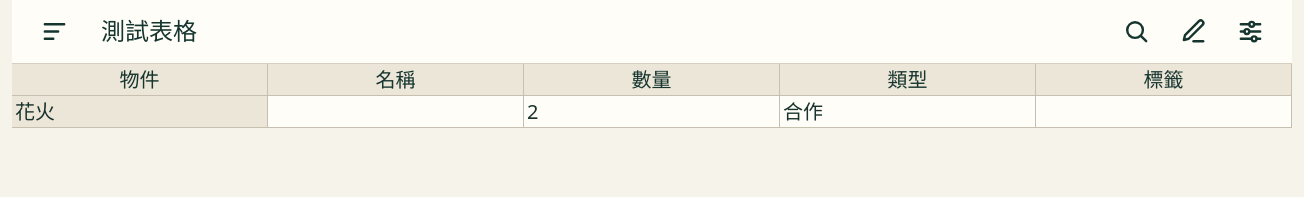
WorkspacePage.filters › searches every value in the active table without changing the app-bar actions
Click the button named "搜尋".
click(1136, 32)  # box x1=1112 y1=8 x2=1160 y2=56
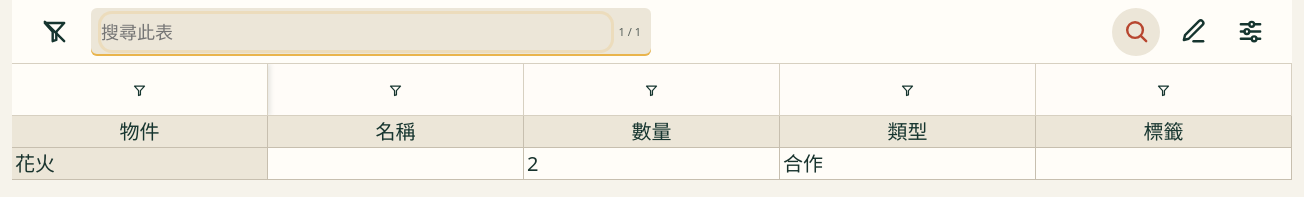
Type "合作" into the search field labelled "搜尋此表".
click(356, 32); type("合作")  # box x1=101 y1=14 x2=611 y2=50
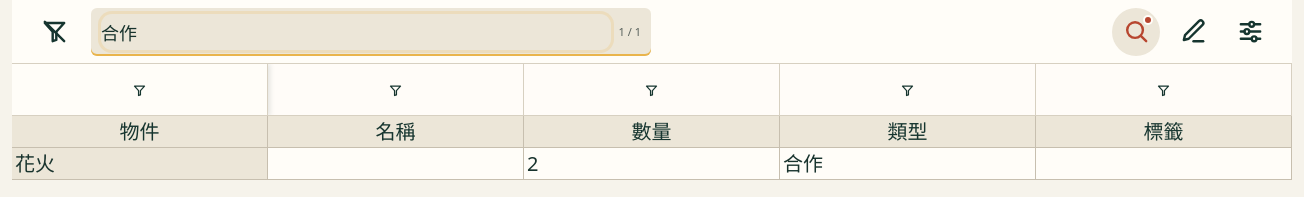
Expected: the row "花火 2 合作" is shown, x1=12 y1=96 x2=1292 y2=128
Replace the text in the search field named "搜尋此表" with "不存在" at (356, 32), box x1=101 y1=14 x2=611 y2=50
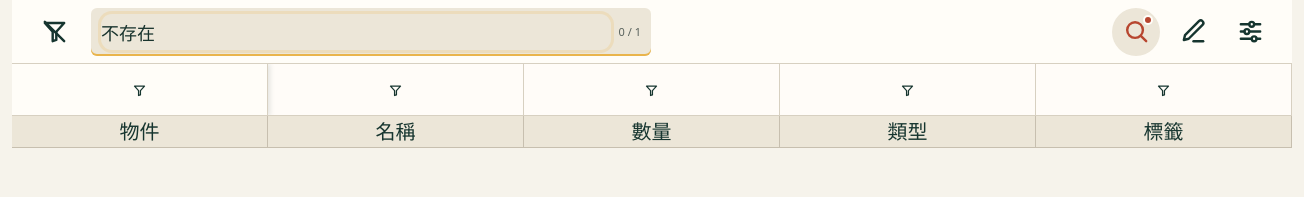
Expected: the button "花火" is gone
Expected: the text with class "workspace-appbar-search-count" reads "0 / 1", x1=619 y1=24 x2=641 y2=39
